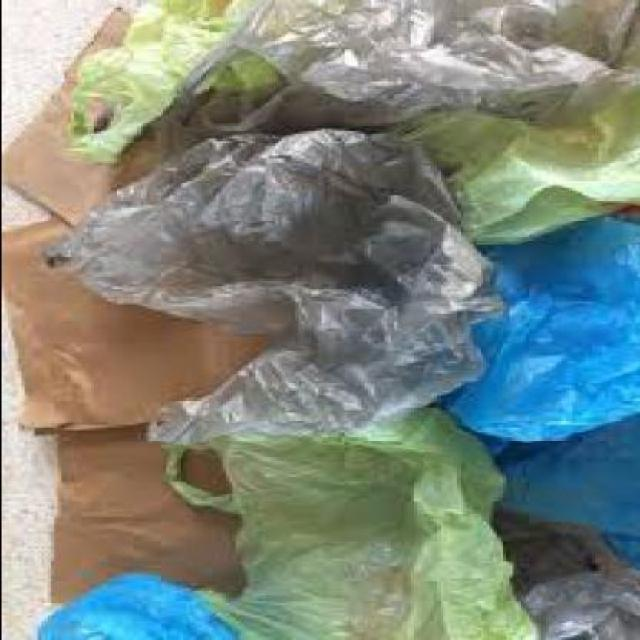PAPER: (2, 218, 262, 440), (2, 4, 162, 230), (46, 425, 234, 606)
PLASTIC: (40, 130, 502, 448), (160, 410, 532, 638), (155, 2, 637, 161), (369, 52, 637, 245), (418, 220, 637, 442), (458, 420, 637, 563), (488, 522, 637, 638), (28, 572, 228, 638)
